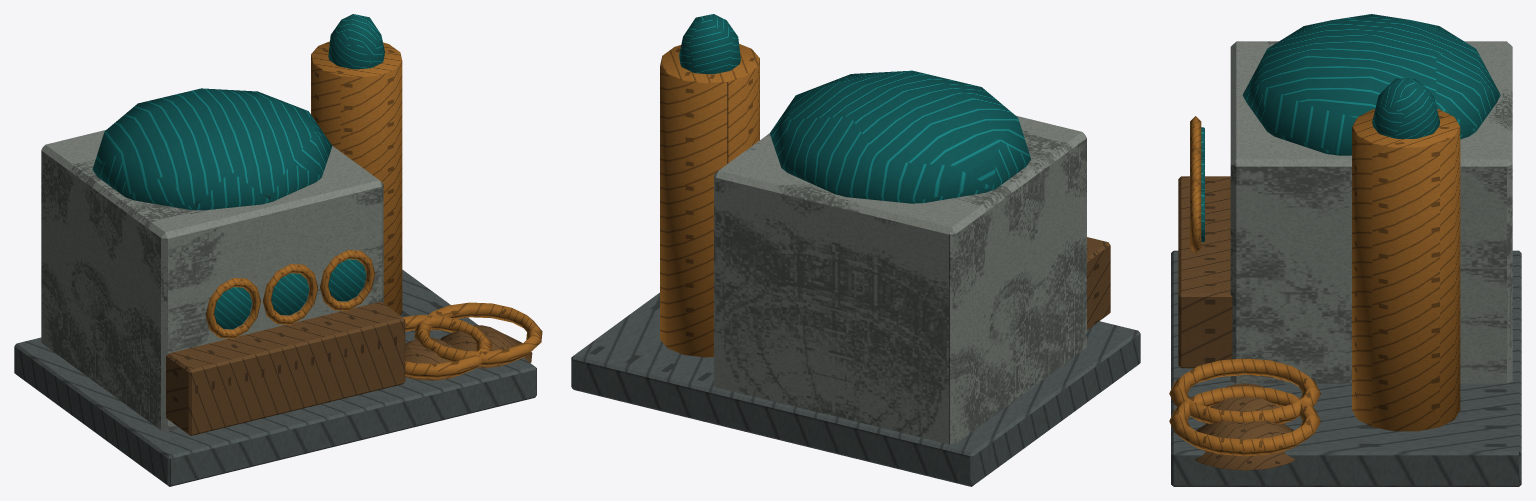
File: he3-assay.glb
The picture shows the model from 3 angles, left to right: view 1: azimuth 30°, elevation 25°; view 2: azimuth 150°, elevation 25°; view 3: azimuth 270°, elevation 25°; orthographic projection. The views are drawn at different scales.
Parts seen in each view (by area): view 1: he3-assay; view 2: he3-assay; view 3: he3-assay.
Part boxes in pixels (x1,y1,x2,y2): he3-assay: [14, 14, 542, 486]; he3-assay: [571, 14, 1140, 486]; he3-assay: [1169, 14, 1521, 486].
Bounding box in the file's own units: 4.5 × 3.53 × 3.07.
1 material, 1 textured.
